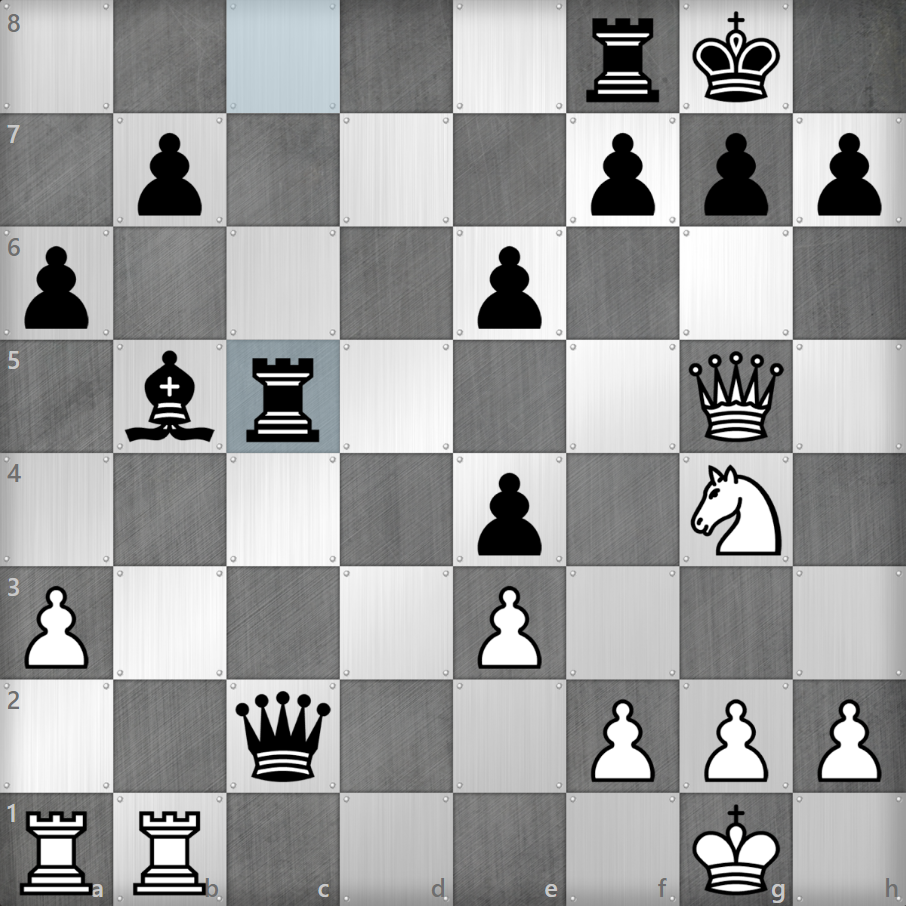K: (690, 800, 782, 898)
N: (686, 459, 787, 560)
P: (589, 694, 658, 786), (700, 694, 769, 786), (816, 695, 885, 787), (472, 580, 541, 672), (22, 581, 91, 673)
Q: (687, 346, 786, 445)
R: (131, 804, 208, 903), (19, 804, 97, 900)
b: (122, 344, 217, 445)
k: (688, 8, 781, 106)
p: (479, 470, 545, 559), (589, 131, 655, 220), (703, 128, 769, 217), (816, 130, 882, 219), (476, 242, 542, 331), (23, 243, 89, 332), (136, 129, 202, 218)
q: (229, 688, 337, 785)
r: (240, 354, 328, 446), (583, 13, 664, 107)
